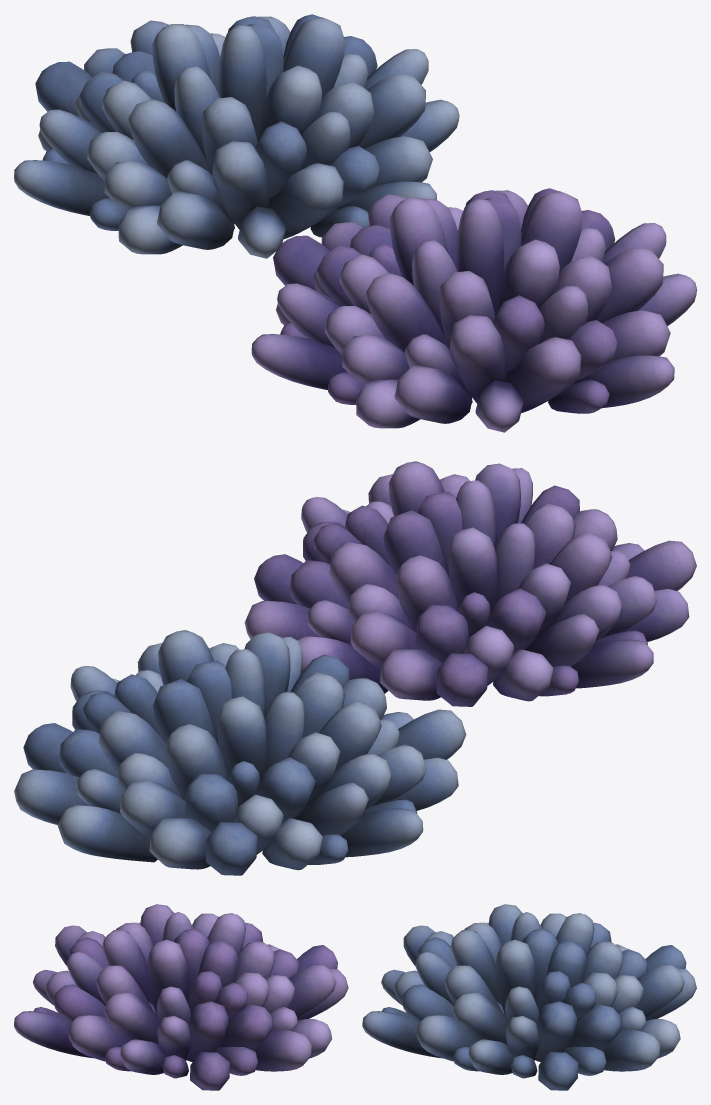
The model's file is plant_08.fbx.
3 views of the same model, one above another, from view 1: azimuth 30°, elevation 25°; view 2: azimuth 150°, elevation 25°; view 3: azimuth 270°, elevation 25° (orthographic). The views are drawn at different scales.
Visible parts, largest first — view 1: polySurface1, polySurface2; view 2: polySurface2, polySurface1; view 3: polySurface2, polySurface1.
Boxes of the visible parts, box(x1,y1,x2,y2) form: polySurface1: box(251, 188, 696, 432); polySurface2: box(14, 14, 459, 258); polySurface2: box(14, 630, 466, 875); polySurface1: box(244, 461, 696, 706); polySurface2: box(362, 904, 696, 1090); polySurface1: box(14, 904, 348, 1090).
Bounding box in the file's own units: 12.84 × 5.9 × 25.5.
